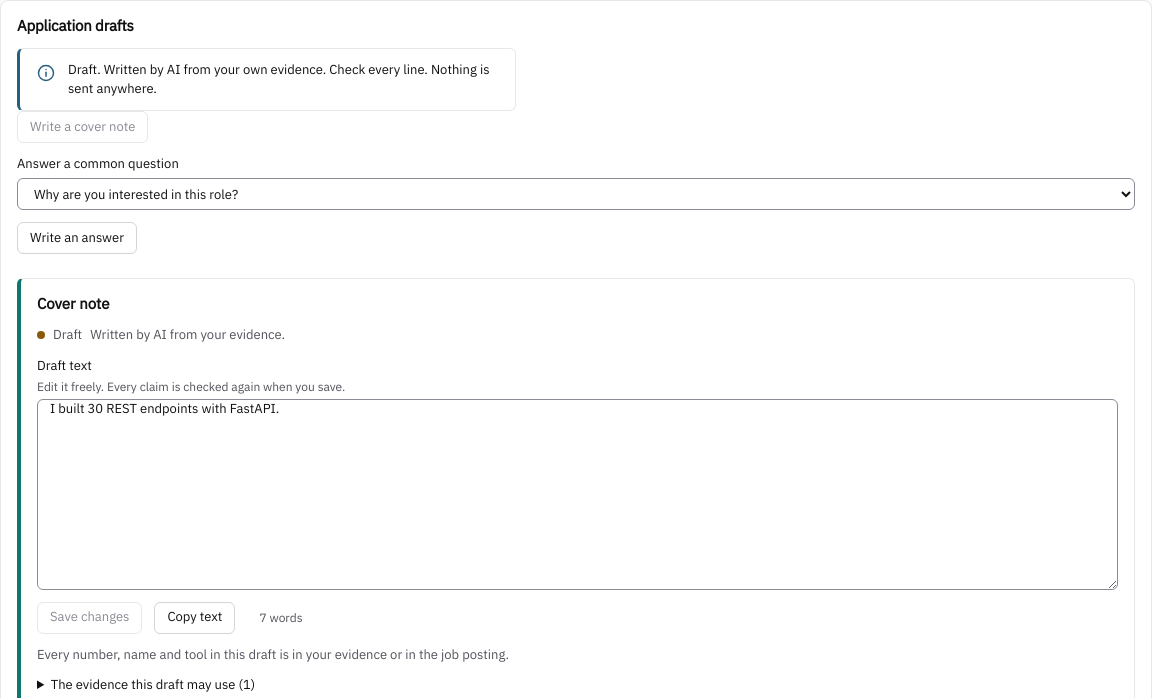
Test: Drafts › saves only when the text changed, and shows the server's refusal
Expected: the button "Save changes" is disabled, [37,602,142,634]
Type " More." into the text box labelled "Draft text" at (578,494), box [37,399,1118,590]
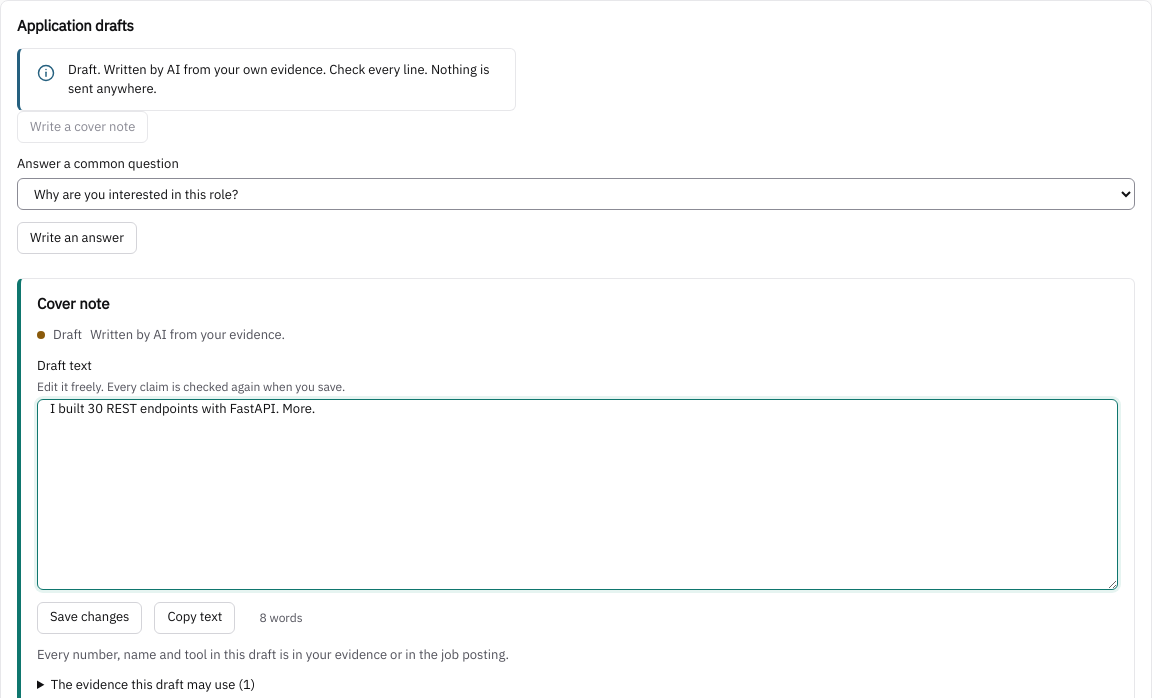
Now the button "Save changes" is enabled
Click the button "Save changes" at (90,618), box [37,602,142,634]
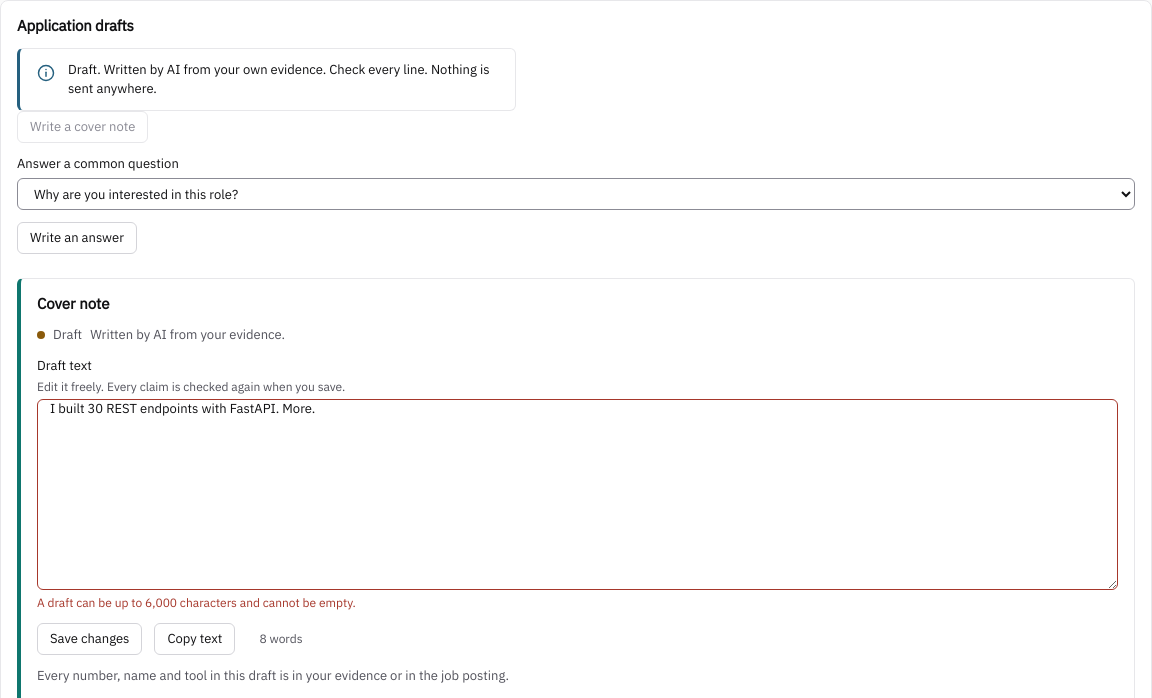
Now the text "A draft can be up to 6,000 characters and cannot be empty." is shown, box [37,594,356,610]
